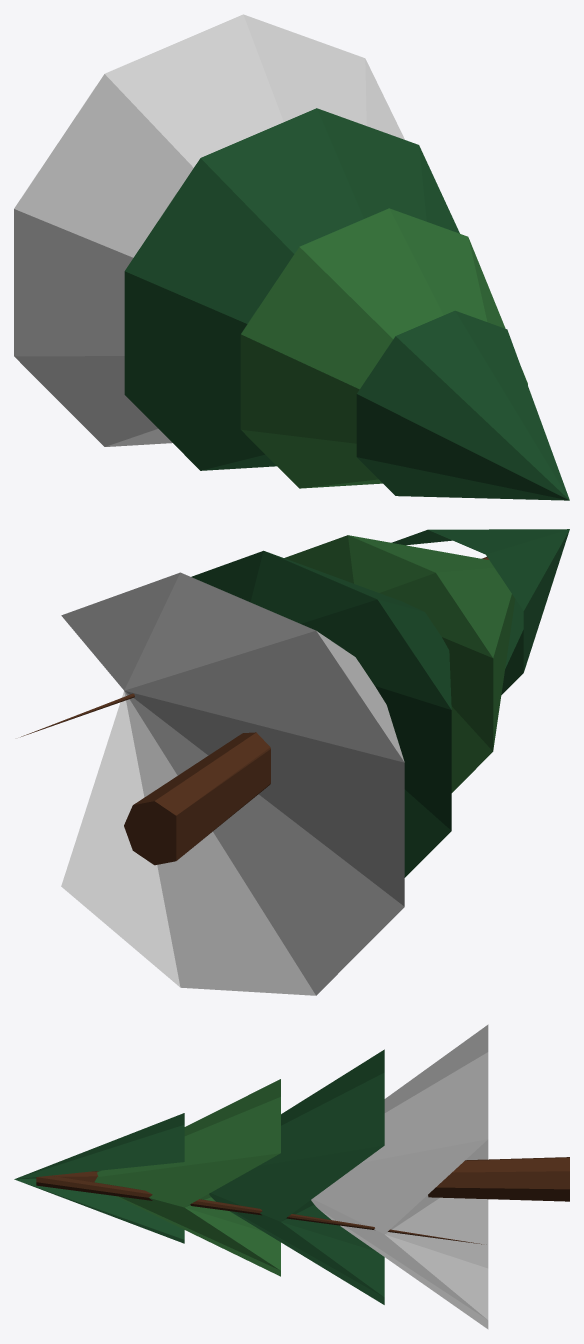
File: pine_lowpoly.obj
3 views of the same model, one above another, from view 1: azimuth 30°, elevation 25°; view 2: azimuth 150°, elevation 25°; view 3: azimuth 270°, elevation 25° (orthographic). The views are drawn at different scales.
Parts seen in each view (by area): view 1: Pine; view 2: Pine; view 3: Pine.
Boxes of the visible parts, <box> form: Pine: <box>14,14,569,500</box>; Pine: <box>20,529,569,995</box>; Pine: <box>14,1024,569,1329</box>.
Bounding box in the file's own units: 2.04 × 2.07 × 3.75.
